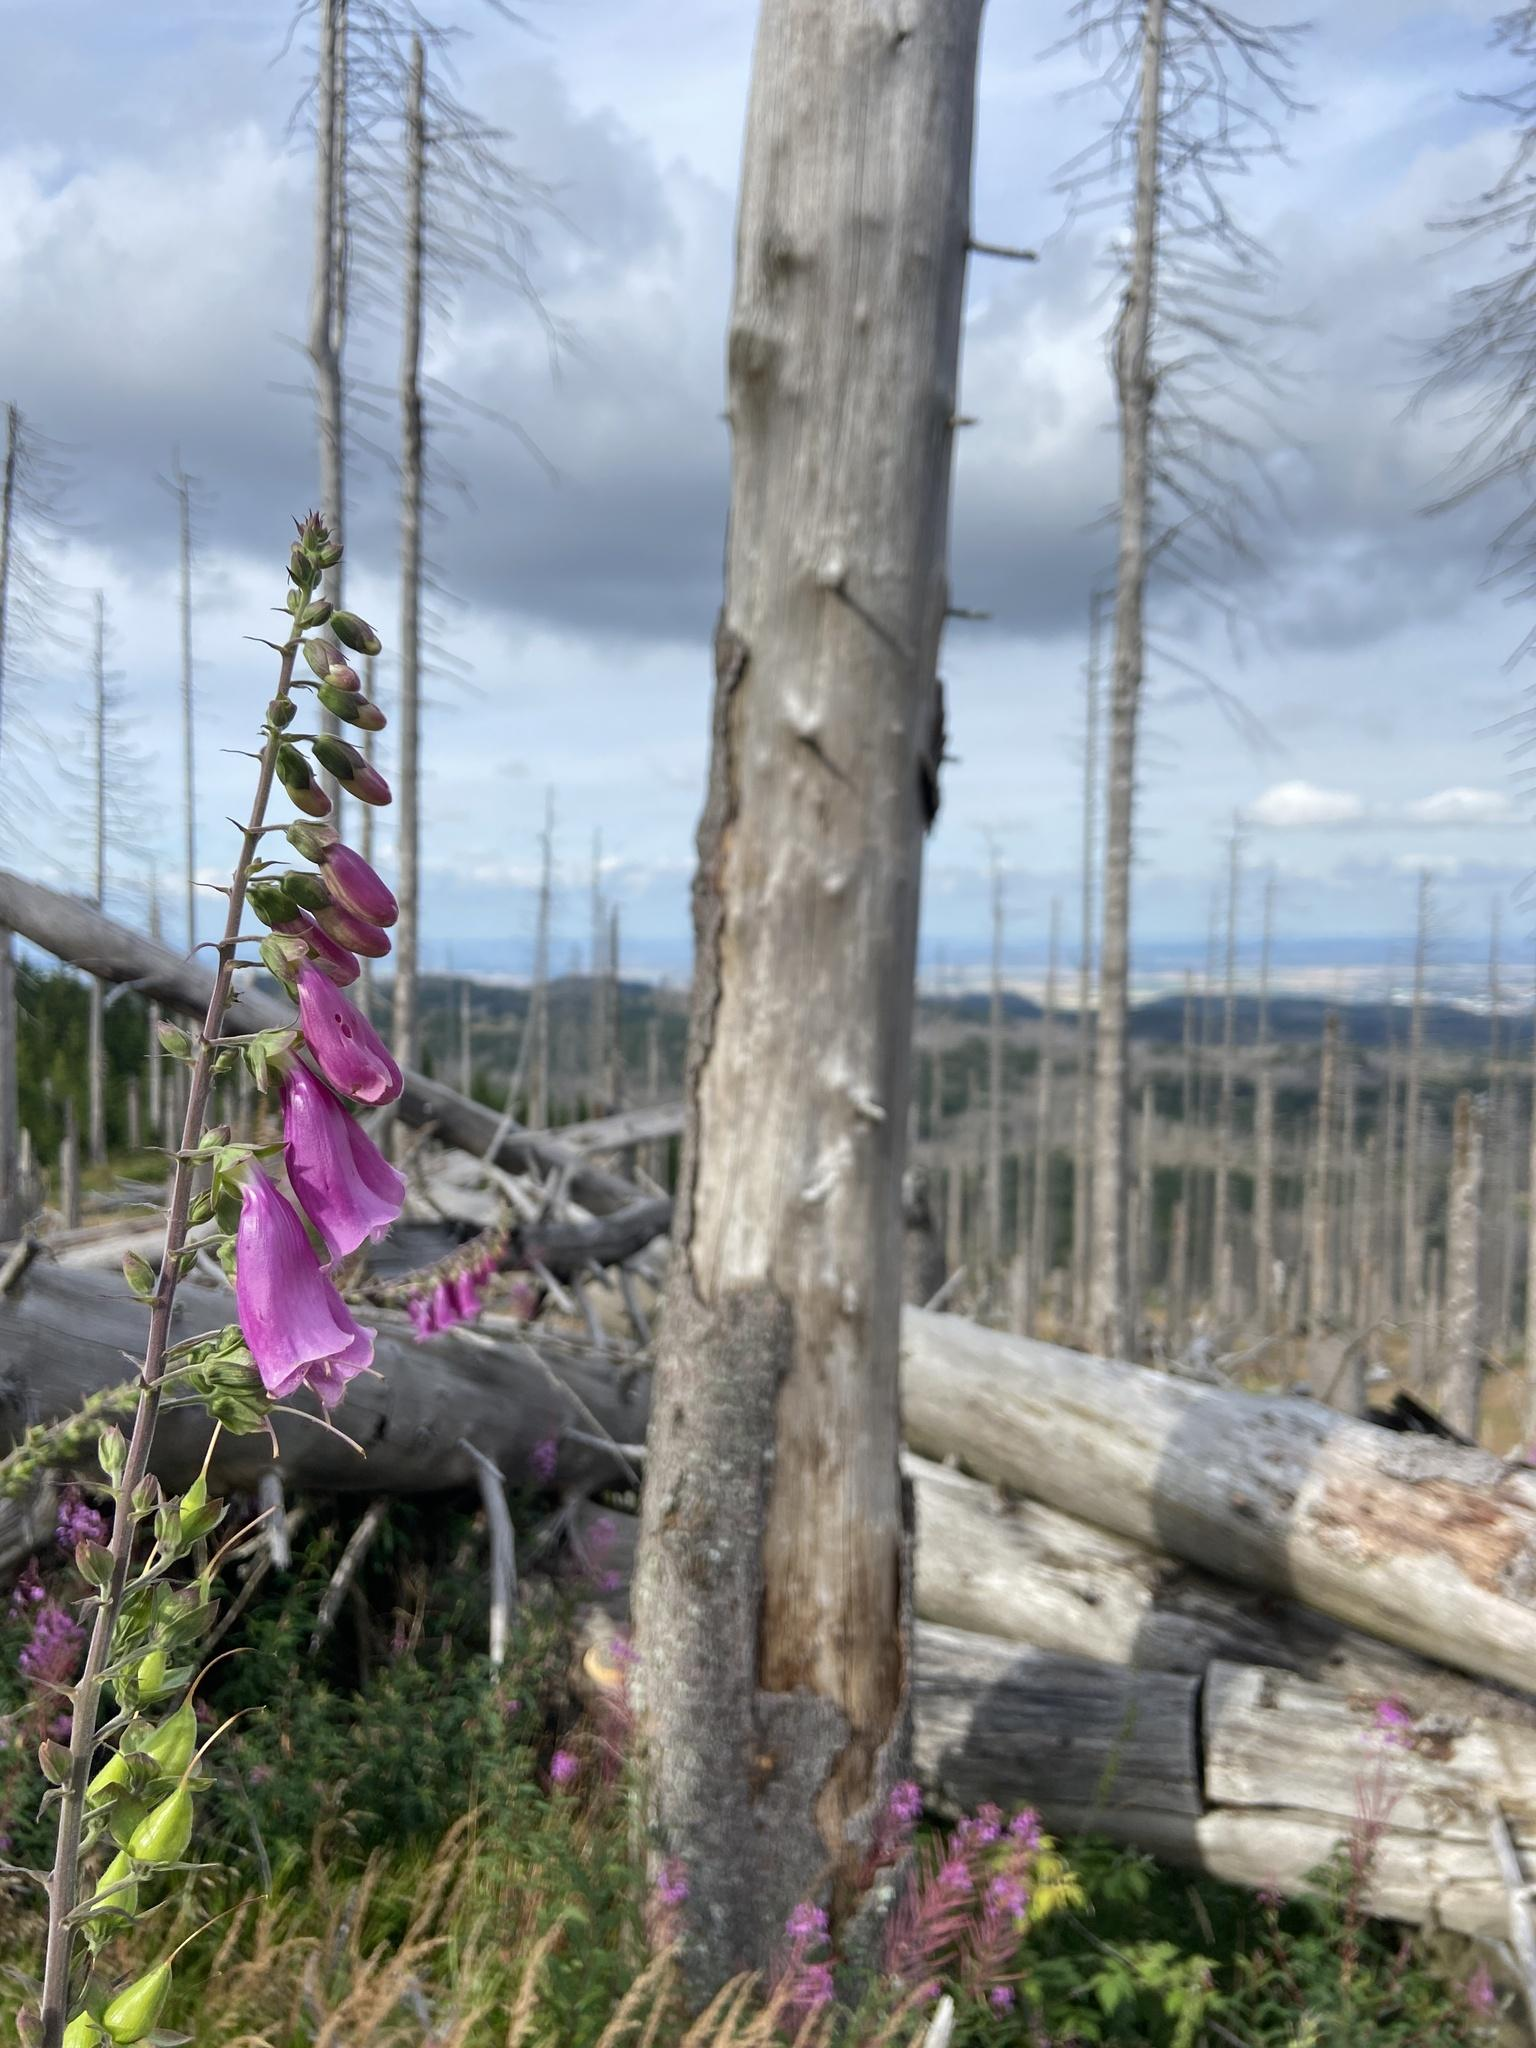Digitalis L: (0, 498, 407, 2037)
